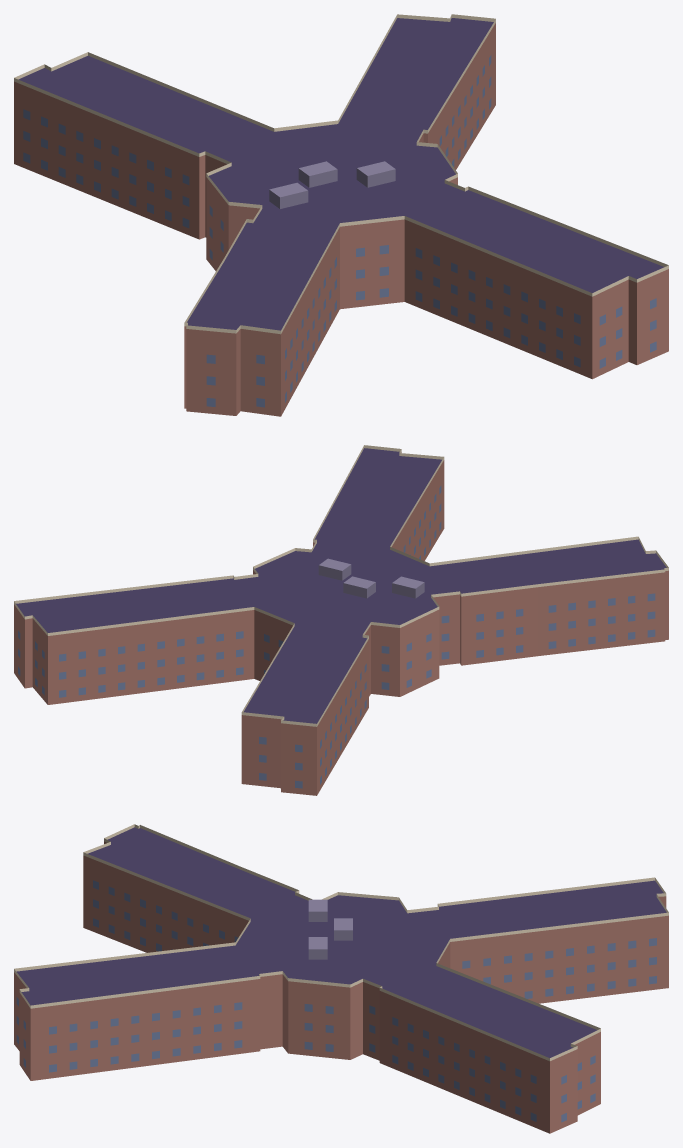
File: b-092-delaware-hall-day.glb
3 views of the same model, one above another, from view 1: azimuth 30°, elevation 25°; view 2: azimuth 150°, elevation 25°; view 3: azimuth 270°, elevation 25° (orthographic). The views are drawn at different scales.
Visible parts, largest first — view 1: campus/b-092-delaware-hall-day-0; view 2: campus/b-092-delaware-hall-day-0; view 3: campus/b-092-delaware-hall-day-0.
Part boxes in pixels (x1,y1,x2,y2): campus/b-092-delaware-hall-day-0: (14,14,668,416); campus/b-092-delaware-hall-day-0: (14,445,668,795); campus/b-092-delaware-hall-day-0: (14,824,668,1133).
Bounding box in the file's own units: 87.34 × 14.4 × 103.
